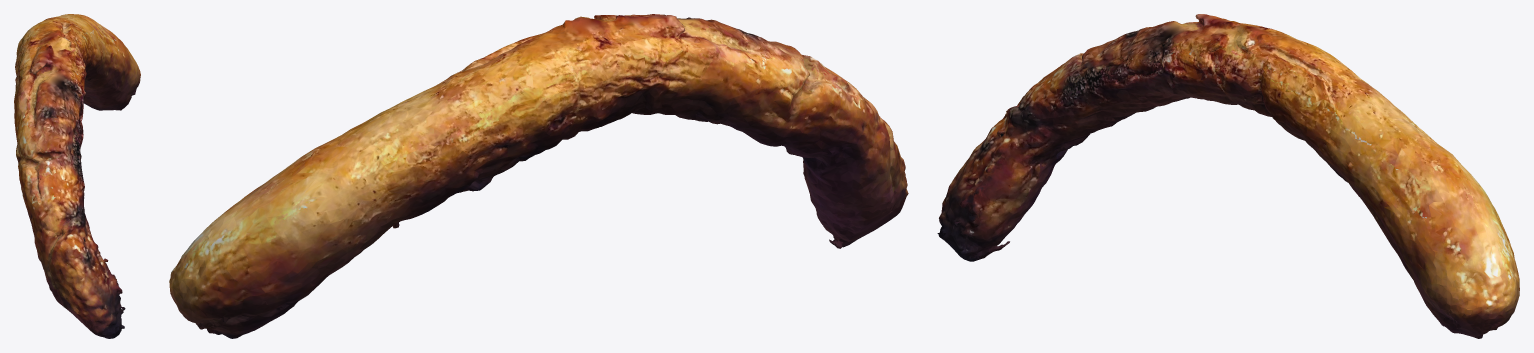
Rendered from Bratwurst.fbx.
3 views of the same model, side by side, from view 1: azimuth 30°, elevation 25°; view 2: azimuth 150°, elevation 25°; view 3: azimuth 270°, elevation 25° (orthographic). The views are drawn at different scales.
Visible parts, largest first — view 1: Bratwurst_tex_high; view 2: Bratwurst_tex_high; view 3: Bratwurst_tex_high.
Part boxes in pixels (x1,y1,x2,y2): Bratwurst_tex_high: [14, 14, 140, 338]; Bratwurst_tex_high: [169, 14, 908, 338]; Bratwurst_tex_high: [937, 14, 1519, 338].
Size of the model in its own units: 11.59 by 8.47 by 16.8.
